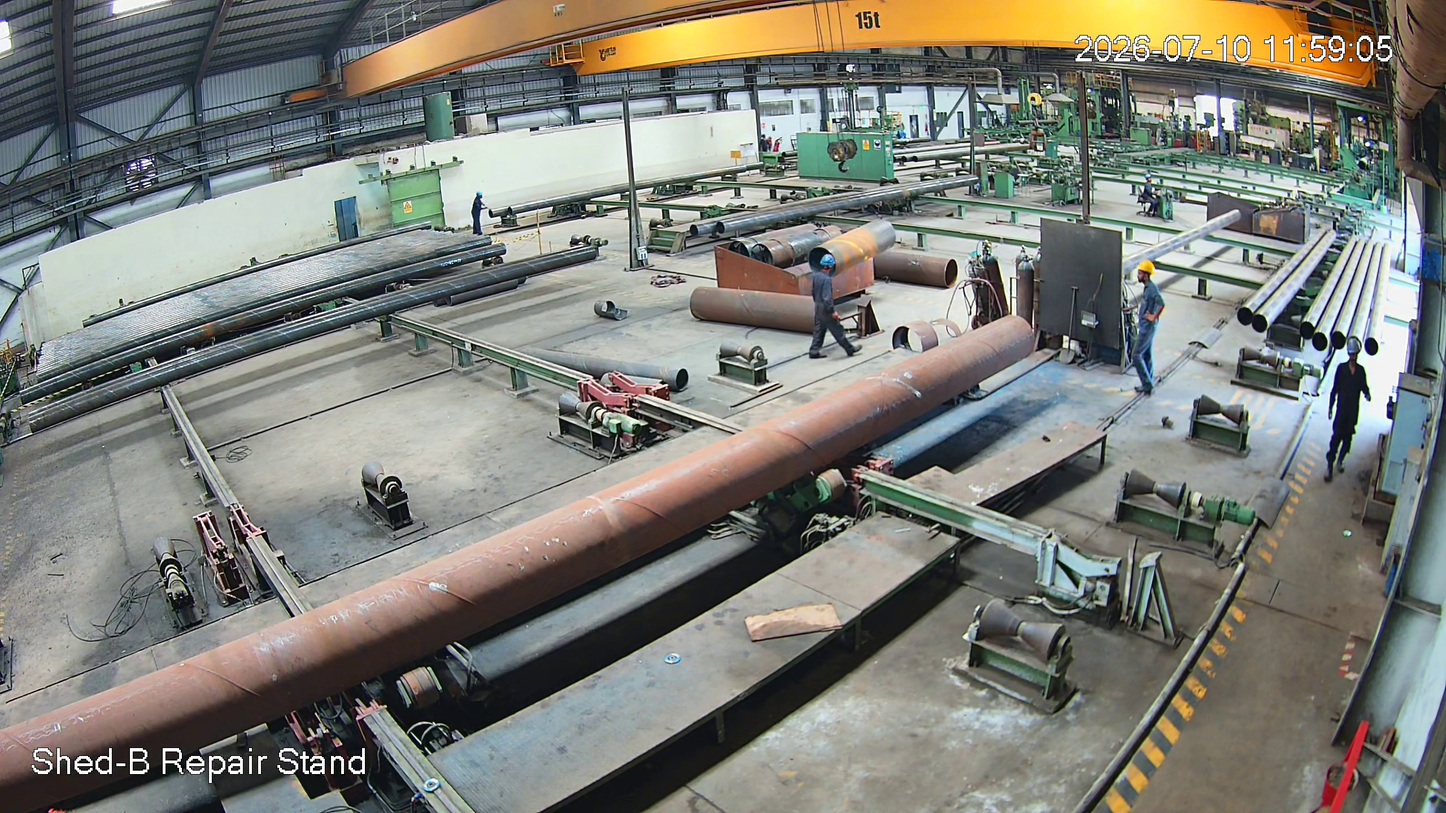Helmet: (1135, 254, 1157, 290), (815, 251, 839, 278), (1344, 335, 1363, 367), (473, 187, 483, 201)
Person: (1323, 337, 1371, 494), (1129, 259, 1165, 399), (807, 252, 852, 362), (469, 189, 487, 238)
